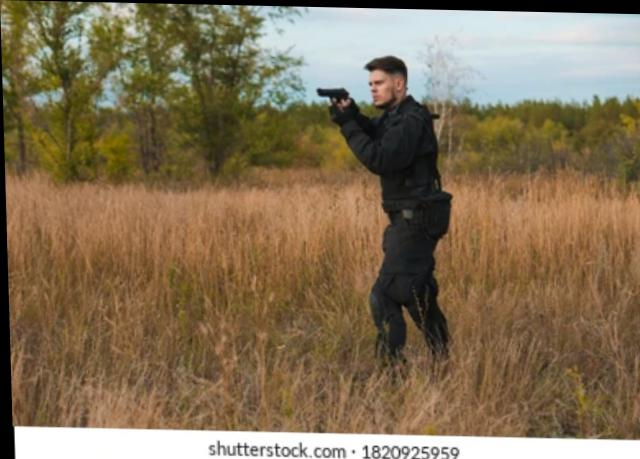other: (352, 57, 456, 358)
